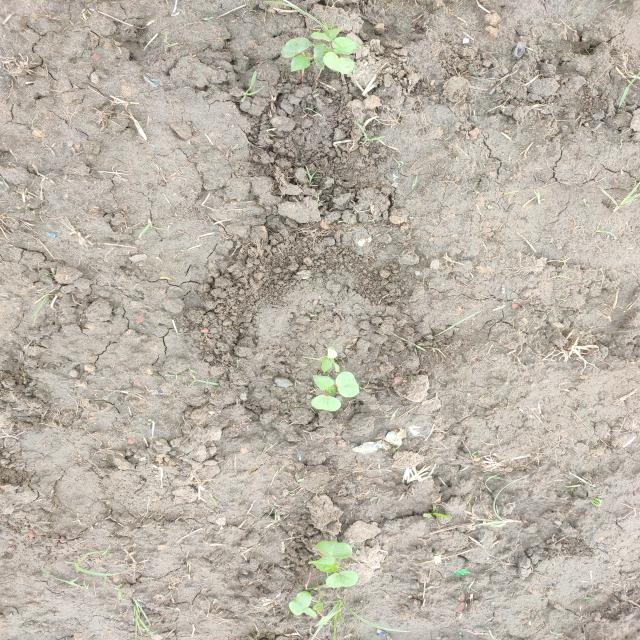seedling_s4: (323, 52, 354, 75), (336, 371, 360, 398), (316, 540, 352, 558), (281, 37, 310, 58), (325, 570, 358, 588), (289, 591, 312, 615), (331, 36, 360, 55), (311, 395, 341, 411), (311, 556, 338, 573), (314, 42, 330, 68), (290, 55, 311, 72), (311, 29, 340, 41), (313, 375, 334, 390), (322, 360, 333, 374), (327, 346, 338, 358), (304, 607, 317, 617), (326, 387, 337, 394)
